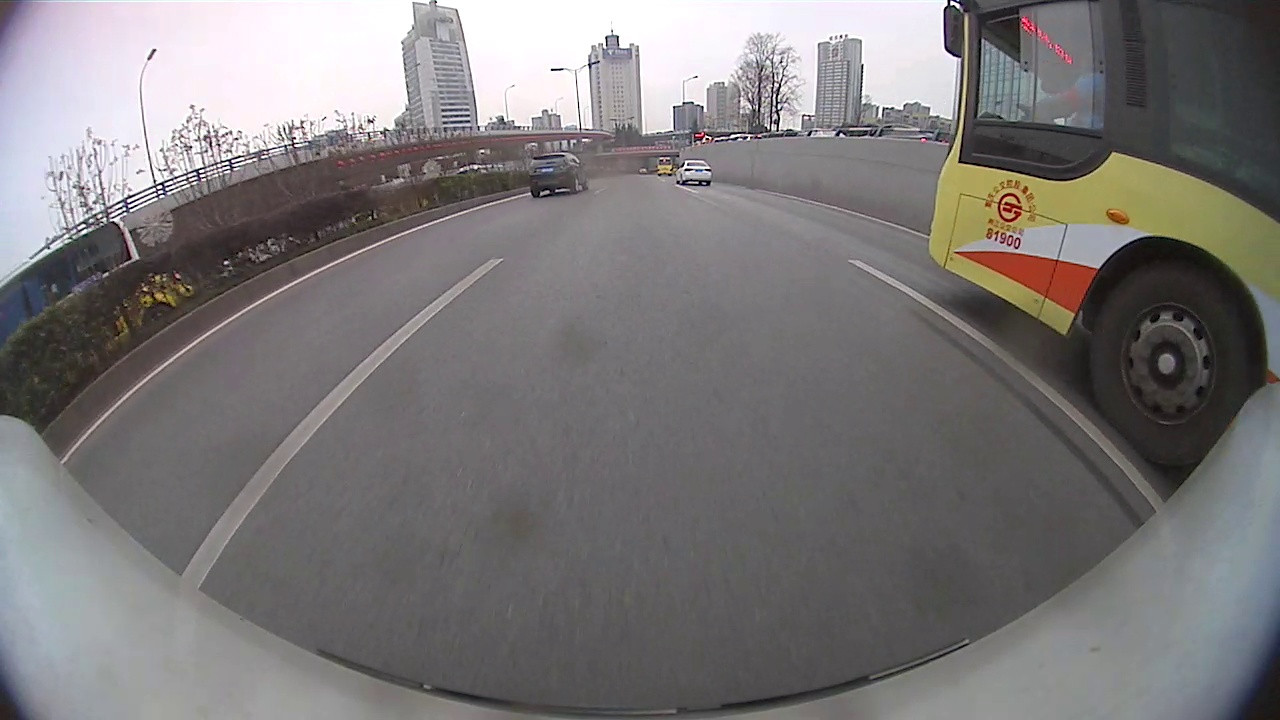bus: (925, 1, 1279, 473), (1, 217, 142, 350)
car: (526, 150, 590, 198), (673, 156, 715, 188)
front: (1081, 258, 1257, 468)
